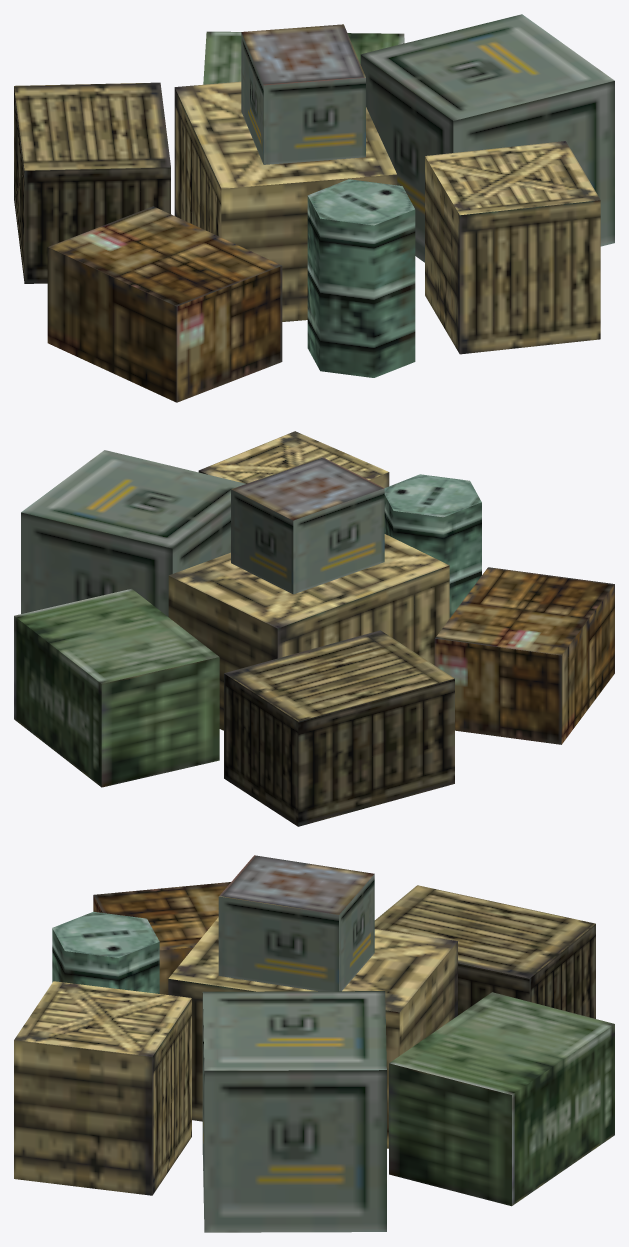
The model's file is supplies.glb.
The picture shows the model from 3 angles, top to bottom: view 1: azimuth 30°, elevation 25°; view 2: azimuth 150°, elevation 25°; view 3: azimuth 270°, elevation 25°; orthographic projection. The views are drawn at different scales.
Visible parts, largest first — view 1: SUP06, SUP01, SUP02, SUP05, SUP08, SUP04, SUP07, SUP03; view 2: SUP05, SUP03, SUP02, SUP06, SUP08, SUP07, SUP04, SUP01; view 3: SUP02, SUP03, SUP01, SUP07, SUP05, SUP08, SUP04, SUP06.
Boxes of the visible parts, <box> form: SUP06: <box>47,206,282,402</box>; SUP01: <box>425,141,600,354</box>; SUP02: <box>360,14,614,262</box>; SUP05: <box>14,82,170,283</box>; SUP08: <box>174,81,397,321</box>; SUP04: <box>307,179,415,377</box>; SUP07: <box>241,24,365,164</box>; SUP03: <box>203,31,404,84</box>; SUP05: <box>224,630,454,826</box>; SUP03: <box>14,588,219,787</box>; SUP02: <box>21,450,245,616</box>; SUP06: <box>434,567,614,744</box>; SUP08: <box>168,534,449,730</box>; SUP07: <box>231,457,384,594</box>; SUP04: <box>384,474,481,617</box>; SUP01: <box>198,431,389,487</box>; SUP02: <box>202,991,386,1232</box>; SUP03: <box>389,992,614,1206</box>; SUP01: <box>14,981,191,1195</box>; SUP07: <box>218,855,374,991</box>; SUP05: <box>374,885,595,1018</box>; SUP08: <box>168,917,457,1148</box>; SUP04: <box>52,911,159,993</box>; SUP06: <box>93,882,230,994</box>.
Size of the model in its own units: 23.82 by 9.49 by 23.46.
Materials: 8 (8 with a texture image).
